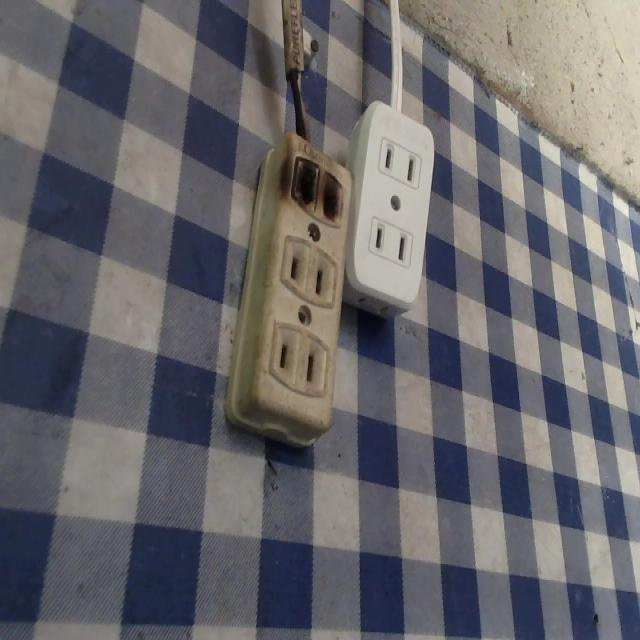-: (286, 127, 351, 229)
